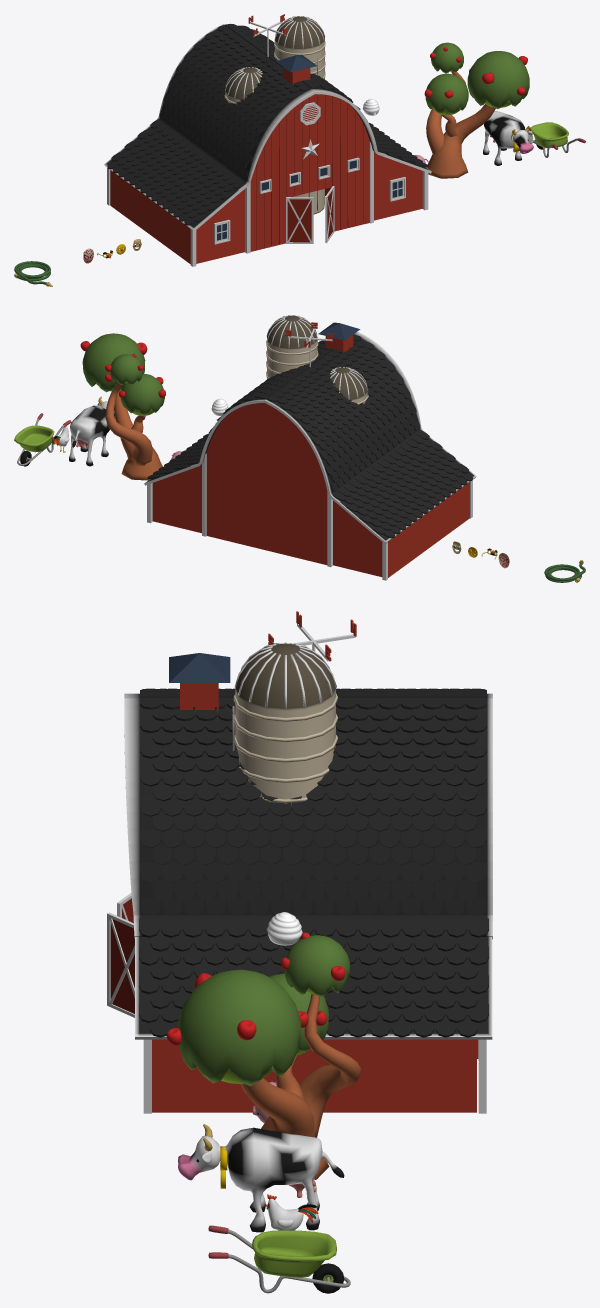
The model's file is Jessie_Props.glb.
3 views of the same model, one above another, from view 1: azimuth 30°, elevation 25°; view 2: azimuth 150°, elevation 25°; view 3: azimuth 270°, elevation 25° (orthographic). The views are drawn at different scales.
Visible parts, largest first — view 1: barn, tree, grain_silo, cow, wheelbarrow, hose; view 2: barn, tree, grain_silo, cow, wheelbarrow, hose; view 3: barn, tree, grain_silo, cow, wheelbarrow, chicken, beehive.
Part boxes in pixels (x1=…): barn: x1=104, y1=14, x2=431, y2=266; tree: x1=424, y1=42, x2=529, y2=178; grain_silo: x1=224, y1=16, x2=325, y2=214; cow: x1=483, y1=111, x2=533, y2=165; wheelbarrow: x1=529, y1=122, x2=585, y2=157; hose: x1=14, y1=261, x2=52, y2=286; barn: x1=144, y1=322, x2=476, y2=580; tree: x1=80, y1=333, x2=165, y2=480; grain_silo: x1=266, y1=315, x2=368, y2=404; cow: x1=69, y1=396, x2=115, y2=466; wheelbarrow: x1=14, y1=413, x2=71, y2=466; hose: x1=544, y1=560, x2=585, y2=582; barn: x1=107, y1=611, x2=492, y2=1113; tree: x1=166, y1=932, x2=360, y2=1179; grain_silo: x1=232, y1=642, x2=337, y2=805; cow: x1=178, y1=1124, x2=344, y2=1232; wheelbarrow: x1=208, y1=1225, x2=350, y2=1293; chicken: x1=265, y1=1194, x2=318, y2=1230; beehive: x1=266, y1=912, x2=302, y2=945.
Size of the model in its own units: 12.52 by 4.52 by 3.8.
